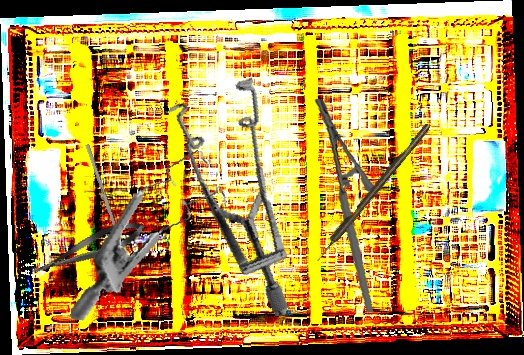Hook Surgical: (312, 122, 433, 263)
Micro Scissor: (27, 214, 149, 283)
Needle Holder: (291, 98, 397, 313)
Pusher: (85, 143, 129, 261)
Speculum: (125, 58, 343, 319), (69, 132, 236, 344)
